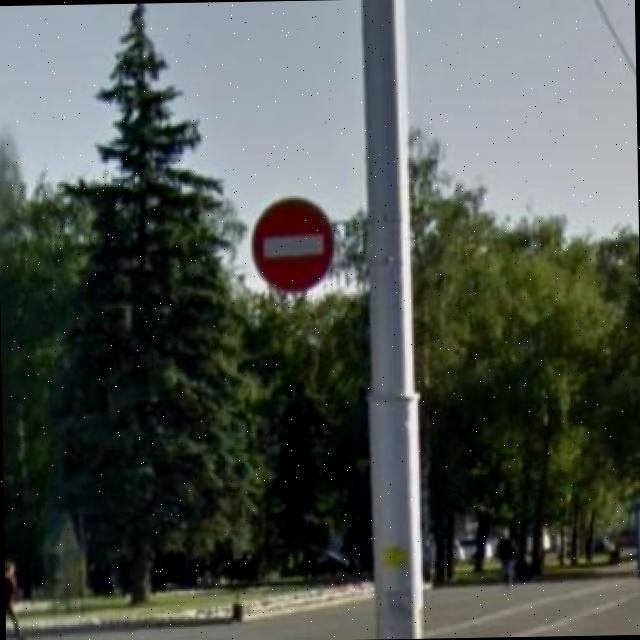Zakaz wjazdu: (250, 192, 338, 298)
